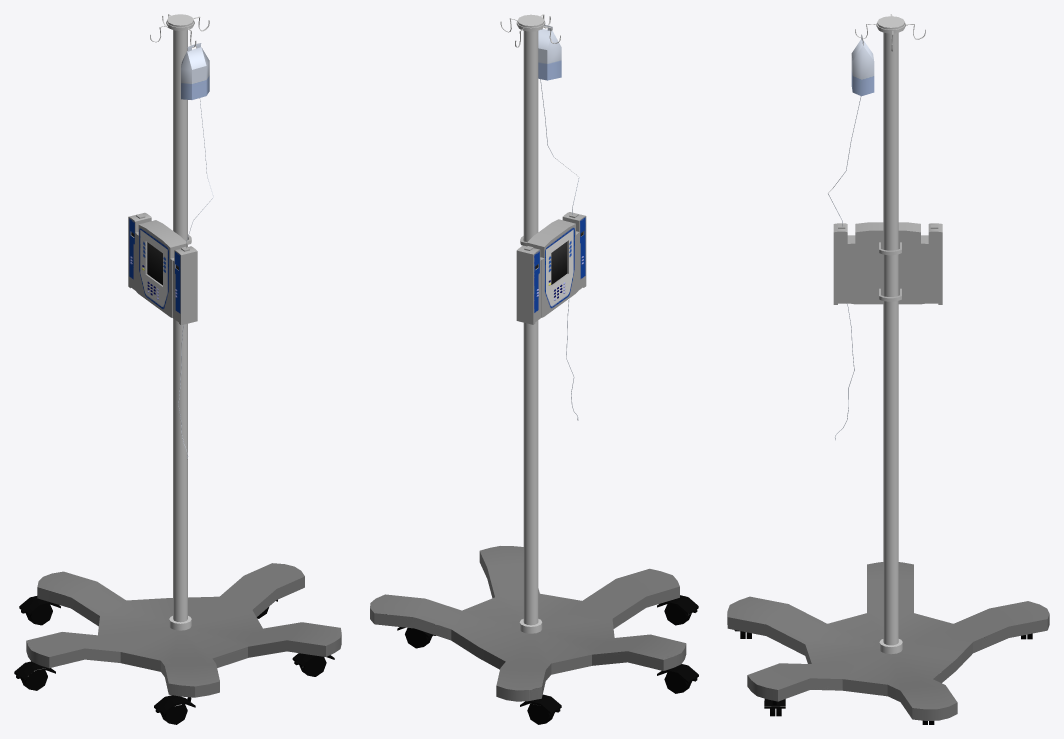
Rendered from ivstand.obj.
The picture shows the model from 3 angles, left to right: view 1: azimuth 30°, elevation 25°; view 2: azimuth 150°, elevation 25°; view 3: azimuth 270°, elevation 25°; orthographic projection. The views are drawn at different scales.
Visible parts, largest first — view 1: Cylinder001; view 2: Cylinder001; view 3: Cylinder001.
Boxes of the visible parts, x1,y1,x2,y2 form: Cylinder001: (14, 14, 341, 724); Cylinder001: (370, 14, 698, 724); Cylinder001: (727, 14, 1049, 724).
Bounding box in the file's own units: 0.6927 × 1.39 × 0.6187.
Materials: 1 (1 with a texture image).
